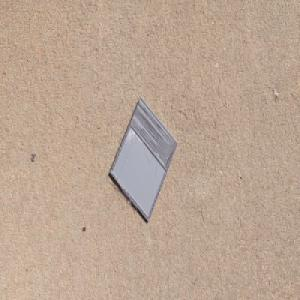PlasticPart: (107, 94, 177, 223)
